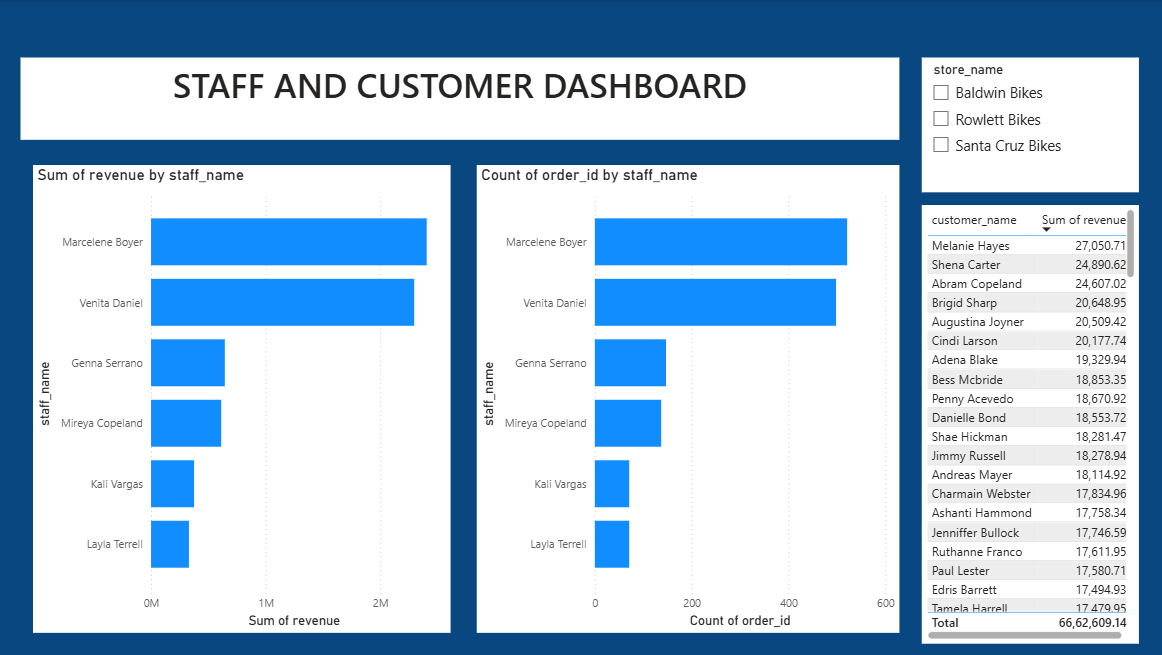

The dashboard page shown, as its layout file describes it:
{"tool":"powerbi","page":{"name":"Staff & Customer Dashboard","canvas":[1280,720],"ordinal":2},"visuals":[{"type":"clusteredBarChart","fields":{"Category":["vw_sales_summary.staff_name"],"Y":["Sum(vw_sales_summary.revenue)"]},"box":[38.4,181.1,458.3,513.2],"z":0},{"type":"clusteredBarChart","fields":{"Category":["vw_sales_summary.staff_name"],"Y":["Count(vw_sales_summary.order_id)"]},"box":[525.6,181.1,463.8,513.2],"z":1000},{"type":"tableEx","fields":{"Values":["vw_sales_summary.customer_name","Sum(vw_sales_summary.revenue)"]},"box":[1014.1,225,238.8,481.6],"z":2000},{"type":"slicer","fields":{"Values":["vw_sales_summary.store_name"]},"box":[1014.1,63.1,238.8,148.2],"z":3000},{"type":"textbox","box":[24.7,63.1,964.7,90.6],"z":4000}]}

Visuals, with their boxes in screenshot pixels (x1, y1, x2, y2), scaled from the page's 1280x720 canvas onto the 1162x655 screenshot:
clusteredBarChart - vw_sales_summary.staff_name x Sum(vw_sales_summary.revenue): [35,165,451,632]
clusteredBarChart - vw_sales_summary.staff_name x Count(vw_sales_summary.order_id): [477,165,898,632]
tableEx - vw_sales_summary.customer_name x Sum(vw_sales_summary.revenue): [921,205,1137,643]
slicer - vw_sales_summary.store_name: [921,57,1137,192]
textbox: [22,57,898,140]
